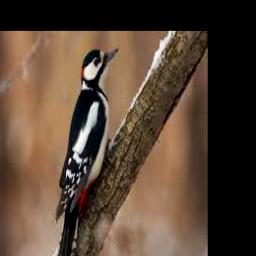Woodpecker: (56, 47, 119, 256)
